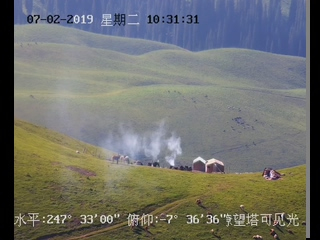smoke: (102, 118, 184, 168)
